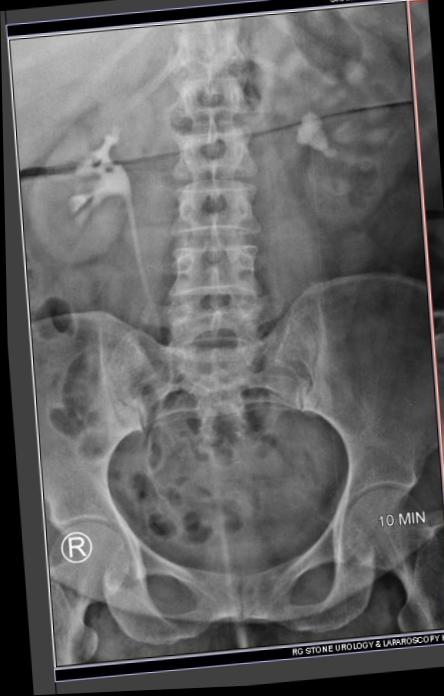left kidney: (262, 10, 426, 245)
right kidney: (1, 75, 153, 275)
vertebrae: (150, 50, 246, 125)
